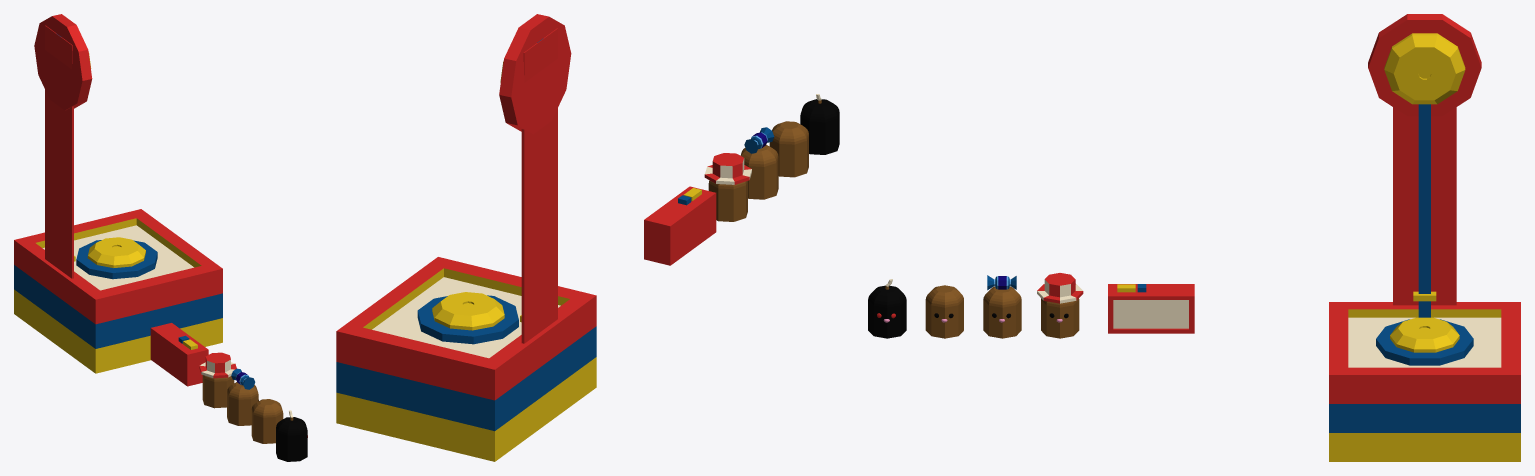
Rendered from Hammer_thing.fbx.
The picture shows the model from 3 angles, left to right: view 1: azimuth 30°, elevation 25°; view 2: azimuth 150°, elevation 25°; view 3: azimuth 270°, elevation 25°; orthographic projection. The views are drawn at different scales.
Parts seen in each view (by area): view 1: Cube.003, Cube.001, Cylinder.007, alarm_thing, Cylinder.009, Cylinder.010, Cylinder.006, Cylinder.004, Cylinder.005, Cylinder, Cylinder.002; view 2: Cube.003, Cube.001, Cylinder.007, alarm_thing, Cylinder.009, Cylinder.010, Cylinder.006, Cylinder.004, Cylinder.005, Cylinder, Cylinder.002; view 3: Cube.003, Cube.001, Cylinder.007, Cylinder.008, alarm_thing, Cube, Cylinder.009, Cylinder.010, Cylinder.006, Cylinder.004, Cylinder.005, Cylinder (+1 smaller).
Part boxes in pixels (<box>): Cube.003: <box>14,209,222,373</box>; Cube.001: <box>45,25,73,278</box>; Cylinder.007: <box>34,14,92,110</box>; alarm_thing: <box>150,323,208,386</box>; Cylinder.009: <box>87,237,145,267</box>; Cylinder.010: <box>76,240,157,279</box>; Cylinder.006: <box>276,410,307,461</box>; Cylinder.004: <box>251,399,283,443</box>; Cylinder.005: <box>227,382,258,425</box>; Cylinder: <box>202,375,234,408</box>; Cylinder.002: <box>205,352,230,372</box>; Cube.003: <box>336,257,596,461</box>; Cube.001: <box>521,28,557,343</box>; Cylinder.007: <box>499,14,571,134</box>; alarm_thing: <box>644,186,716,265</box>; Cylinder.009: <box>432,292,504,330</box>; Cylinder.010: <box>417,295,518,344</box>; Cylinder.006: <box>800,94,839,154</box>; Cylinder.004: <box>769,121,808,177</box>; Cylinder.005: <box>740,144,778,199</box>; Cylinder: <box>708,180,747,221</box>; Cylinder.002: <box>712,153,744,178</box>; Cube.003: <box>1329,302,1520,461</box>; Cube.001: <box>1393,107,1456,305</box>; Cylinder.007: <box>1368,14,1481,116</box>; Cylinder.008: <box>1384,33,1465,104</box>; alarm_thing: <box>1108,284,1194,333</box>; Cube: <box>1418,104,1430,317</box>; Cylinder.009: <box>1390,317,1459,352</box>; Cylinder.010: <box>1376,319,1473,365</box>; Cylinder.006: <box>868,279,906,338</box>; Cylinder.004: <box>925,285,963,338</box>; Cylinder.005: <box>983,286,1021,338</box>; Cylinder: <box>1041,298,1079,338</box>.
Bounding box in the file's own units: 384 × 868 × 1360.
